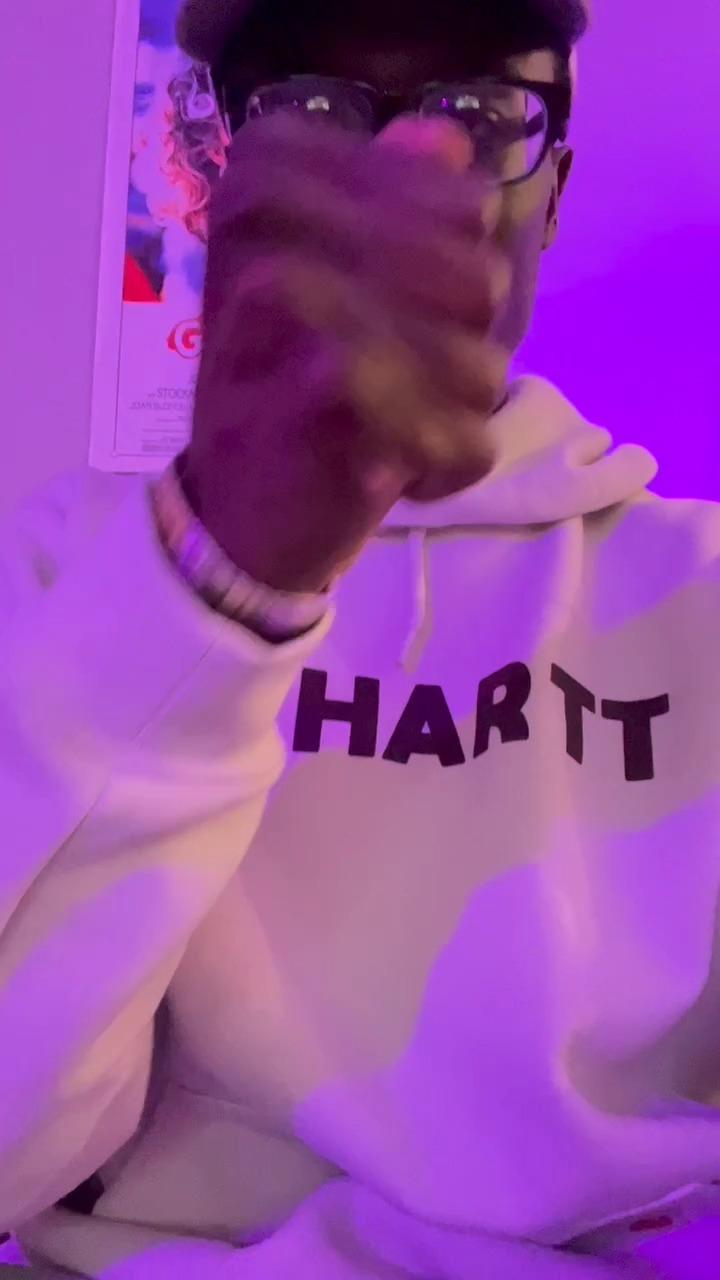Rock: (192, 106, 511, 562)
